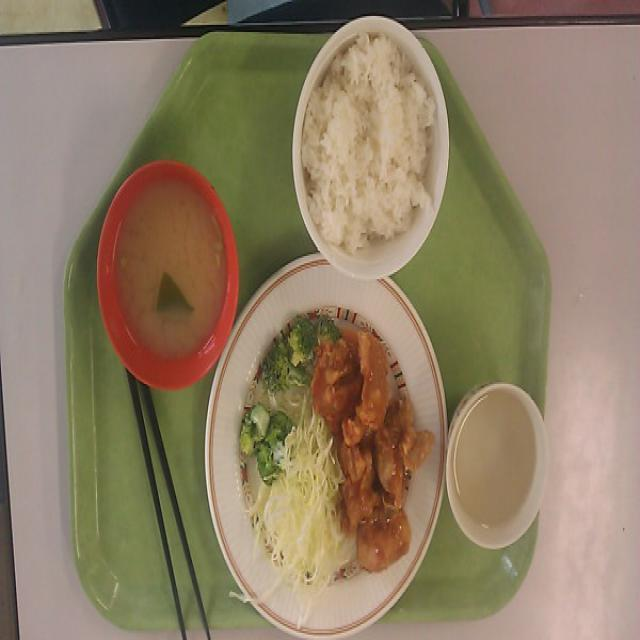Rice: (280, 6, 450, 270)
